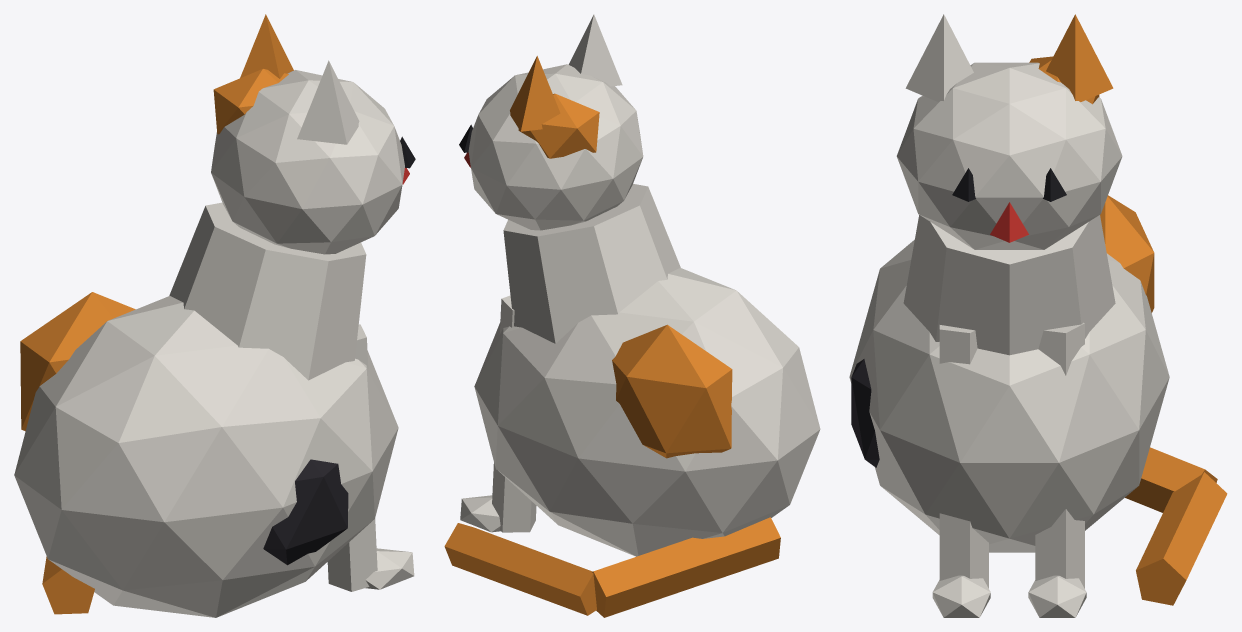
File: katt.glb
The picture shows the model from 3 angles, left to right: view 1: azimuth 30°, elevation 25°; view 2: azimuth 150°, elevation 25°; view 3: azimuth 270°, elevation 25°; orthographic projection. The views are drawn at different scales.
Parts seen in each view (by area): view 1: katt; view 2: katt; view 3: katt.
Boxes of the visible parts, bbox=[...] form: katt: bbox=[14, 14, 415, 617]; katt: bbox=[444, 14, 820, 617]; katt: bbox=[849, 14, 1227, 617].
Bounding box in the file's own units: 0.3278 × 0.46 × 0.2762.
